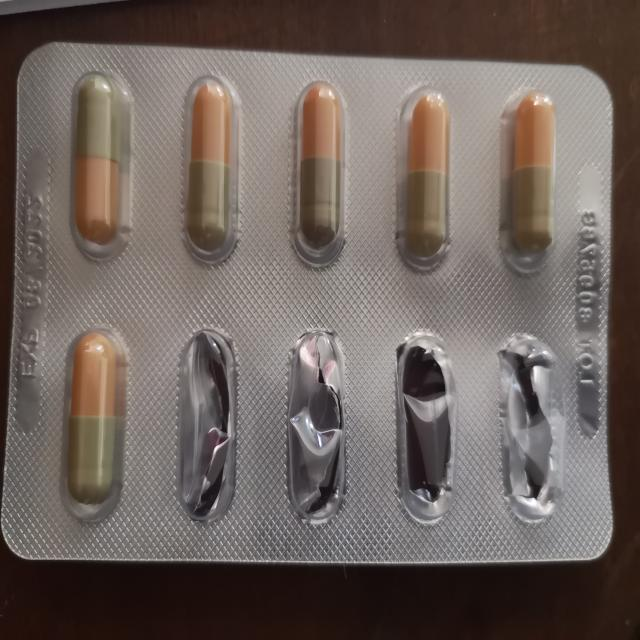Empty: (268, 317, 361, 531), (485, 320, 575, 536), (381, 325, 470, 533), (166, 324, 248, 532)
Pill: (44, 317, 136, 530), (60, 54, 144, 271), (174, 66, 255, 275), (284, 73, 358, 273), (492, 77, 562, 272), (394, 78, 462, 278)
